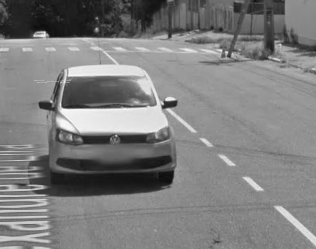car: (37, 36, 181, 190)
